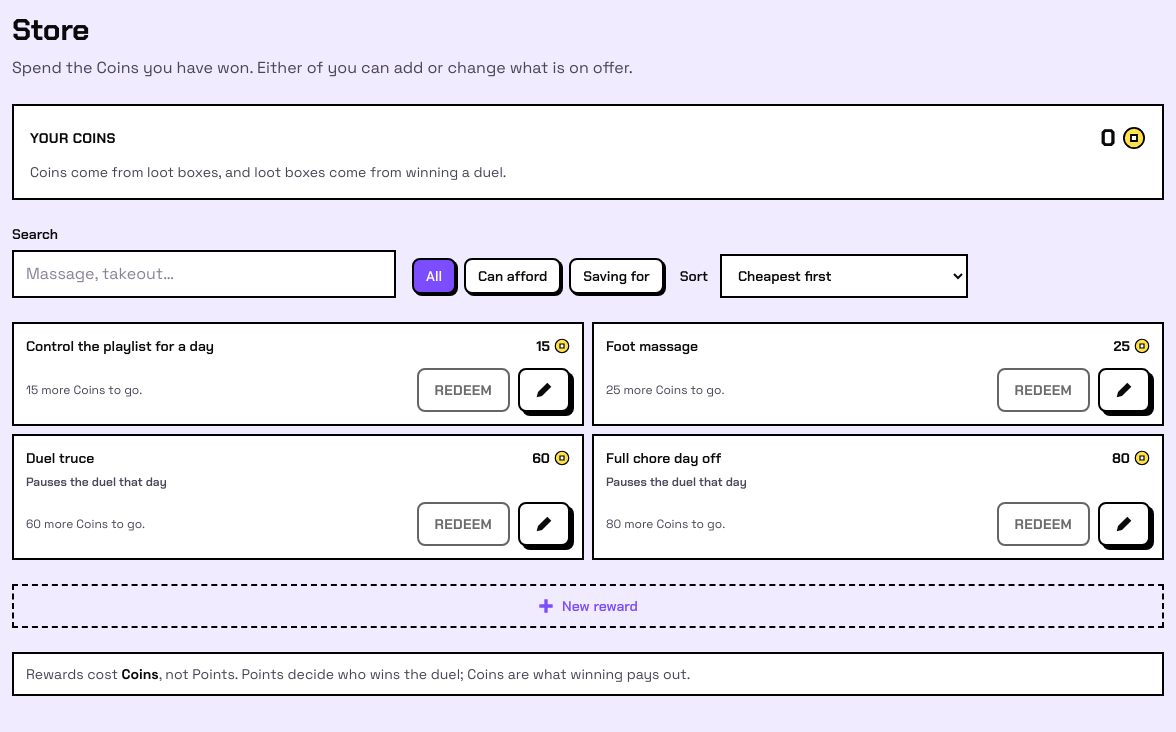
Test: the affordability filter › has its own empty state when nothing is affordable
The image size is (1176, 732).
Expected: the heading "Foot massage" is shown, [606,336,698,356]
What coordinates should you click on to do the following:
click the button "Can afford"
I would click on:
 (513, 276)
Its box is [464,258,561,294].
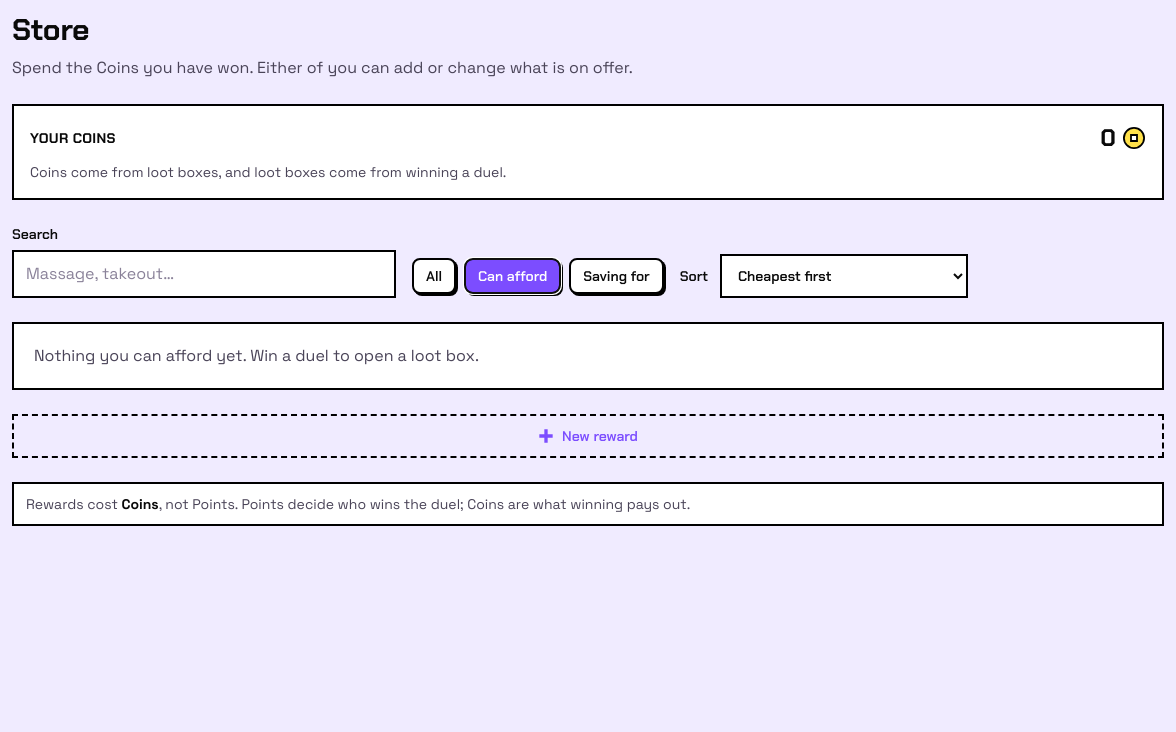
Result: the text "Nothing you can afford yet. Win a duel to open a loot box." is shown at [12,322,1164,390]
